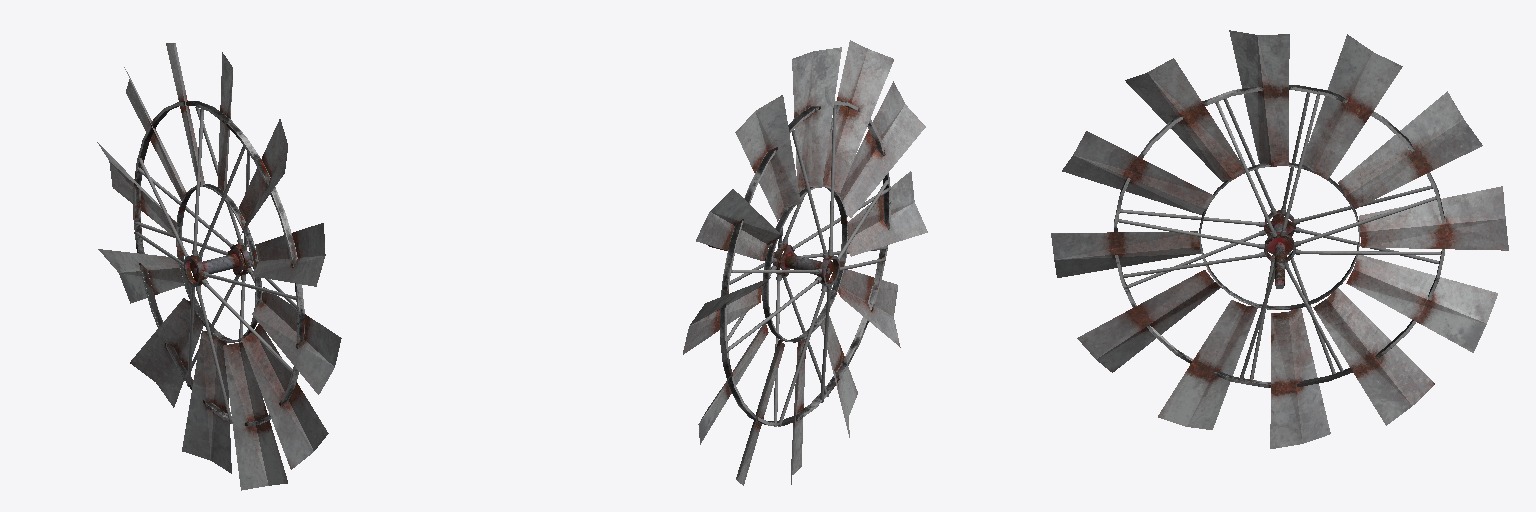
3 renders of one model, left to right at view 1: azimuth 30°, elevation 25°; view 2: azimuth 150°, elevation 25°; view 3: azimuth 270°, elevation 25°, orthographic.
Visible parts, largest first — view 1: Cube.001_metal4_0, Cube.001_Metal_0, Cube.001_metal2_0, Cube.001_redmetla_0; view 2: Cube.001_metal4_0, Cube.001_Metal_0, Cube.001_metal2_0, Cube.001_redmetla_0; view 3: Cube.001_metal4_0, Cube.001_metal2_0, Cube.001_Metal_0, Cube.001_redmetla_0.
Part boxes in pixels (x1,y1,x2,y2): Cube.001_metal4_0: (97, 43, 341, 490); Cube.001_Metal_0: (133, 101, 304, 425); Cube.001_metal2_0: (134, 107, 297, 423); Cube.001_redmetla_0: (184, 244, 256, 286); Cube.001_metal4_0: (683, 40, 927, 485); Cube.001_Metal_0: (720, 101, 890, 425); Cube.001_metal2_0: (727, 105, 890, 426); Cube.001_redmetla_0: (708, 244, 839, 286); Cube.001_metal4_0: (1051, 30, 1508, 448); Cube.001_metal2_0: (1118, 93, 1440, 380); Cube.001_Metal_0: (1114, 85, 1444, 387); Cube.001_redmetla_0: (1264, 210, 1295, 288).
Bounding box in the file's own units: 0.9681 × 3 × 3.
Materials: 4 (4 with a texture image).